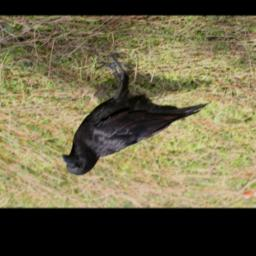Crow: (64, 50, 212, 176)
